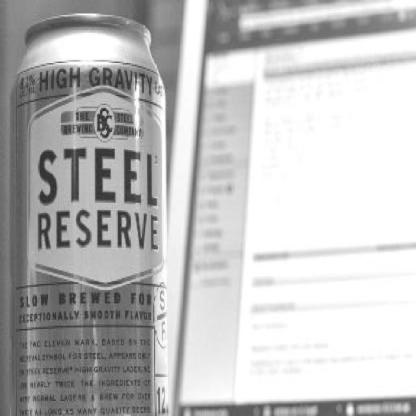alumunium_can: (9, 7, 170, 416)
